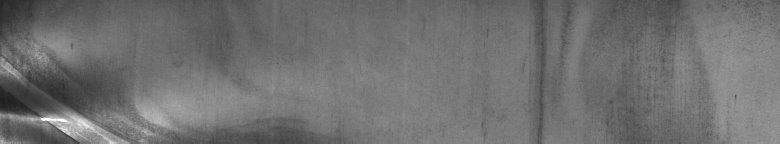ke: (4, 66, 93, 136)
